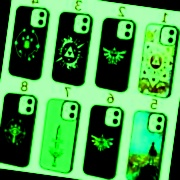iphone: (96, 15, 131, 88), (97, 103, 131, 177), (52, 15, 86, 88), (53, 104, 87, 177), (10, 15, 43, 88), (141, 15, 174, 88), (9, 103, 42, 176), (141, 104, 173, 177)
